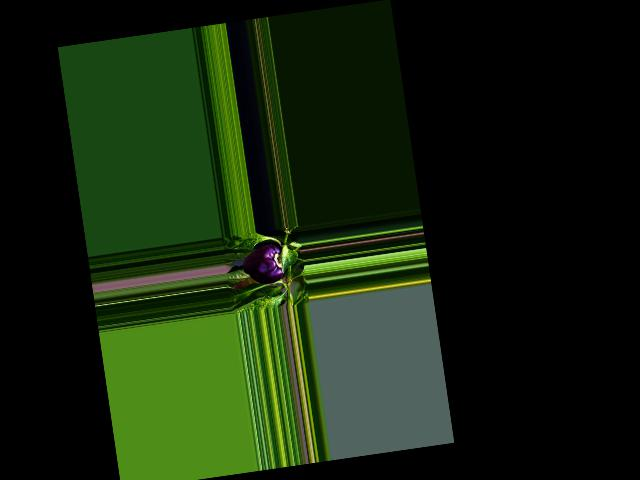bell_pepper: (238, 242, 290, 288)
